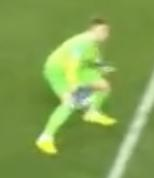goalkeeper: (19, 9, 129, 165)
